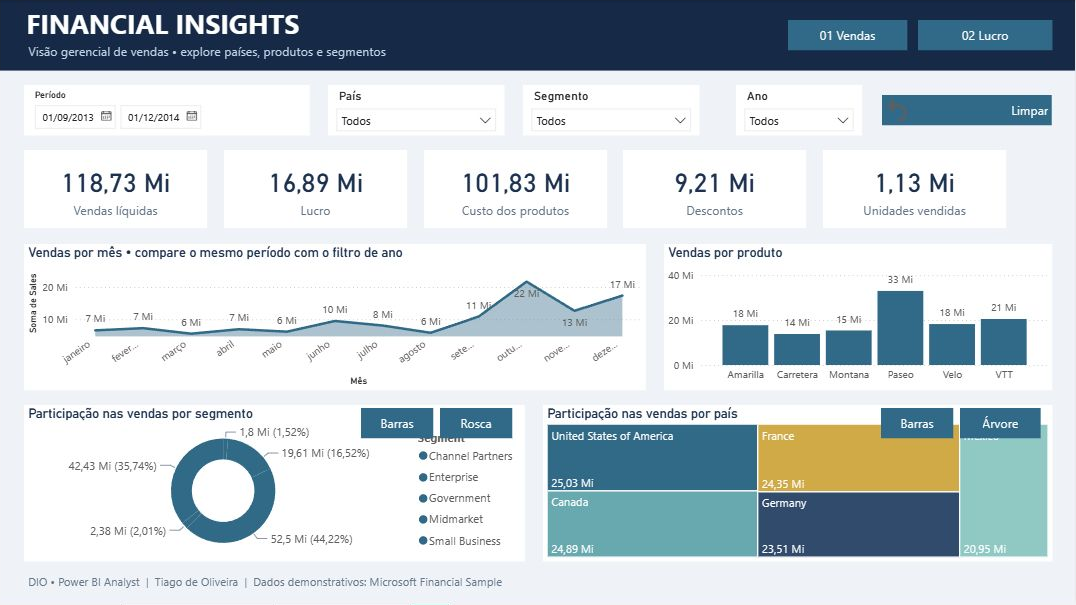

Layout of this report page (visuals, bound fields, positions):
{"tool":"powerbi","page":{"name":"01 • Visão de vendas","canvas":[1280,720],"ordinal":0},"visuals":[{"type":"shape","box":[0,0,1280,84],"z":100},{"type":"textbox","box":[26,0,450,68],"z":200},{"type":"textbox","box":[28,45,700,39],"z":300},{"type":"actionButton","box":[938,24,142,36],"z":400},{"type":"actionButton","box":[1092,24,160,36],"z":500},{"type":"slicer","fields":{"Values":["financials.Date"]},"box":[28,101,340,60],"z":600},{"type":"slicer","fields":{"Values":["financials.Country"]},"box":[390,101,210,60],"z":700},{"type":"slicer","fields":{"Values":["financials.Segment"]},"box":[622,101,210,60],"z":800},{"type":"slicer","fields":{"Values":["financials.Year"]},"box":[876,101,150,60],"z":900},{"type":"textbox","box":[28,678,1120,40],"z":1000},{"type":"card","fields":{"Values":["Sum(financials. Sales)"]},"box":[28,179,218,93],"z":1100},{"type":"card","fields":{"Values":["Sum(financials.Profit)"]},"box":[266,179,218,93],"z":1200},{"type":"card","fields":{"Values":["Sum(financials.COGS)"]},"box":[504,179,218,93],"z":1300},{"type":"card","fields":{"Values":["Sum(financials.Discounts)"]},"box":[742,179,218,93],"z":1400},{"type":"card","fields":{"Values":["Sum(financials.Units Sold)"]},"box":[980,179,218,93],"z":1500},{"type":"areaChart","title":"Vendas por mês • compare o mesmo período com o filtro de ano","fields":{"Category":["financials.Date.Variation.Hierarquia de datas.Mês"],"Y":["Sum(financials. Sales)"]},"box":[28,290,740,174],"z":1600},{"type":"clusteredColumnChart","title":"Vendas por produto","fields":{"Category":["financials.Product"],"Y":["Sum(financials. Sales)"]},"box":[790,290,462,174],"z":1700},{"type":"donutChart","title":"Participação nas vendas por segmento","fields":{"Category":["financials.Segment"],"Y":["Sum(financials. Sales)"]},"box":[28,482,596,186],"z":1900},{"type":"clusteredBarChart","title":"Vendas por país","fields":{"Category":["financials.Country"],"Y":["Sum(financials. Sales)"]},"box":[646,482,606,186],"z":2000},{"type":"treemap","title":"Participação nas vendas por país","fields":{"Group":["financials.Country"],"Values":["Sum(financials. Sales)"]},"box":[646,482,606,186],"z":2100},{"type":"actionButton","box":[430,485,86,36],"z":2200},{"type":"actionButton","box":[524,485,86,36],"z":2300},{"type":"actionButton","box":[1048,485,86,36],"z":2400},{"type":"actionButton","box":[1142,485,96,36],"z":2500},{"type":"actionButton","box":[1050,113,202,36],"z":4500}]}

Visuals, with their boxes in screenshot pixels (x1, y1, x2, y2), scaled from the page's 1280x720 canvas onto the 1076x605 screenshot:
shape: l=0, t=0, r=1075, b=71
textbox: l=22, t=0, r=400, b=57
textbox: l=24, t=38, r=612, b=71
actionButton: l=789, t=20, r=908, b=50
actionButton: l=918, t=20, r=1052, b=50
slicer - financials.Date: l=24, t=85, r=309, b=135
slicer - financials.Country: l=328, t=85, r=504, b=135
slicer - financials.Segment: l=523, t=85, r=699, b=135
slicer - financials.Year: l=736, t=85, r=862, b=135
textbox: l=24, t=570, r=965, b=603
card - Sum(financials. Sales): l=24, t=150, r=207, b=229
card - Sum(financials.Profit): l=224, t=150, r=407, b=229
card - Sum(financials.COGS): l=424, t=150, r=607, b=229
card - Sum(financials.Discounts): l=624, t=150, r=807, b=229
card - Sum(financials.Units Sold): l=824, t=150, r=1007, b=229
"Vendas por mês • compare o mesmo período com o filtro de ano" areaChart: l=24, t=244, r=646, b=390
"Vendas por produto" clusteredColumnChart: l=664, t=244, r=1052, b=390
"Participação nas vendas por segmento" donutChart: l=24, t=405, r=525, b=561
"Vendas por país" clusteredBarChart: l=543, t=405, r=1052, b=561
"Participação nas vendas por país" treemap: l=543, t=405, r=1052, b=561
actionButton: l=361, t=408, r=434, b=438
actionButton: l=440, t=408, r=513, b=438
actionButton: l=881, t=408, r=953, b=438
actionButton: l=960, t=408, r=1041, b=438
actionButton: l=883, t=95, r=1052, b=125
